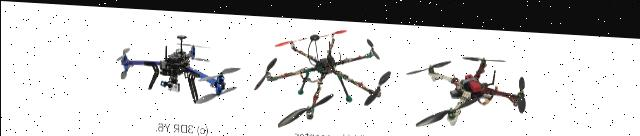drone: (405, 36, 541, 130)
